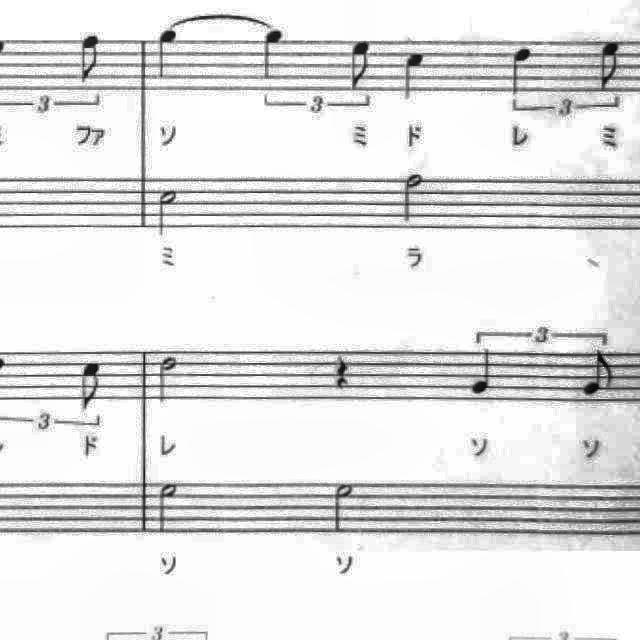Eighth-note: (574, 344, 618, 400), (71, 28, 109, 92), (342, 35, 380, 97), (71, 356, 109, 416), (593, 36, 631, 96)
Half-note: (396, 167, 432, 230), (151, 476, 183, 540), (328, 476, 360, 538), (154, 183, 186, 241), (154, 351, 184, 409)
Quarter-note: (504, 41, 542, 104), (397, 45, 435, 107), (464, 344, 504, 401), (256, 23, 292, 85), (152, 24, 188, 84)
Quarter-rest: (328, 346, 359, 394)
